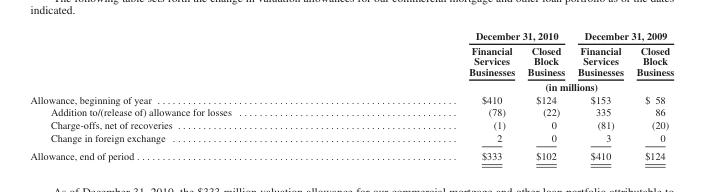table: (29, 29, 673, 161)
table column: (29, 29, 349, 161), (349, 29, 520, 161), (570, 29, 629, 161), (520, 29, 570, 161), (629, 29, 673, 161)
table column header: (29, 29, 673, 92)
table row: (29, 42, 673, 78), (29, 131, 673, 146), (29, 146, 673, 161), (29, 78, 673, 92), (29, 29, 673, 42), (29, 92, 673, 105), (29, 105, 673, 118), (29, 118, 673, 131)
table spanning cell: (349, 78, 673, 92), (349, 29, 570, 42), (570, 29, 673, 42)
